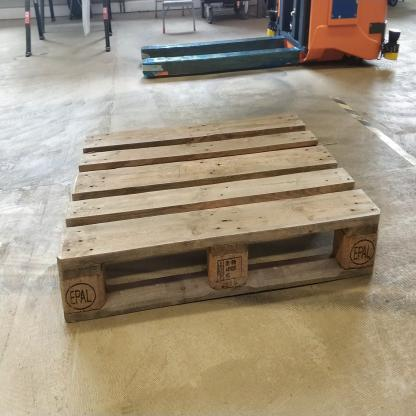BoxFace: (51, 105, 385, 336)
